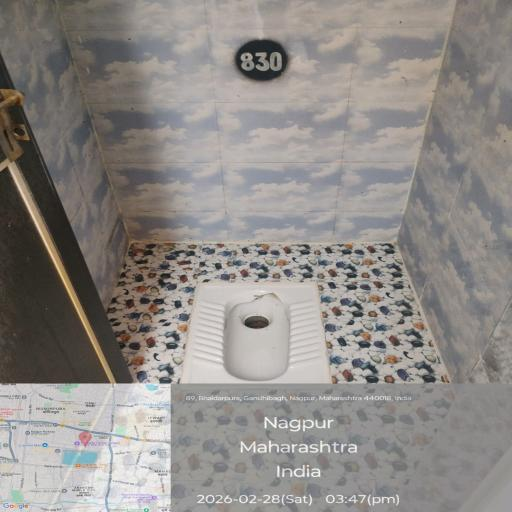clean_floor: (71, 229, 498, 512), (10, 35, 512, 184)
clean_indian: (183, 272, 331, 405)
damage: (240, 278, 329, 316)
